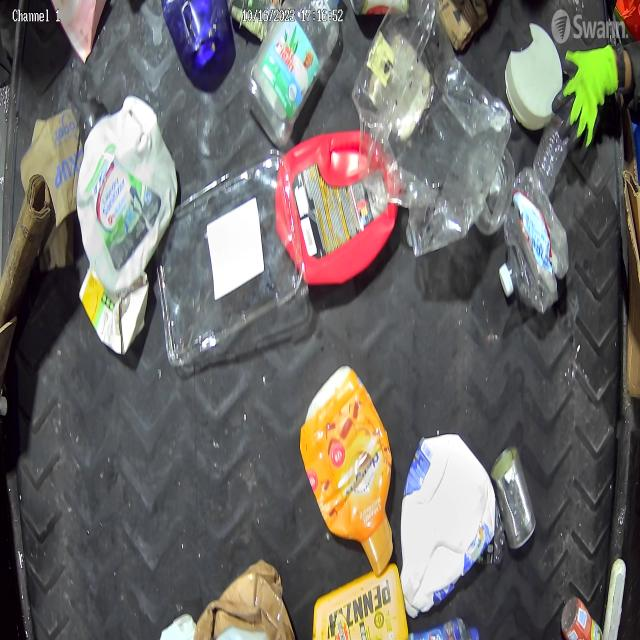can: (489, 444, 537, 556)
milk_jug: (79, 100, 181, 300), (399, 430, 497, 614)
non_white_jug: (300, 368, 392, 570), (277, 126, 396, 282)
plastic_bottle: (499, 170, 564, 326)
